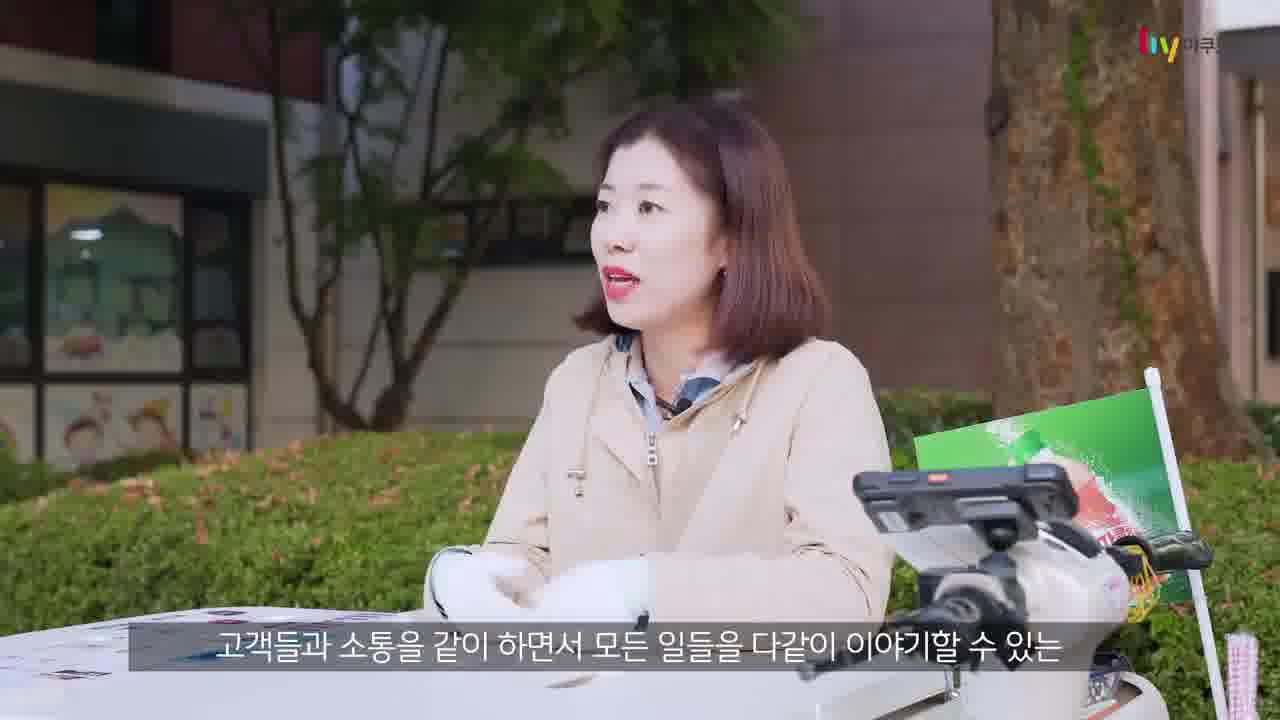Yakurut: (372, 81, 926, 654)
